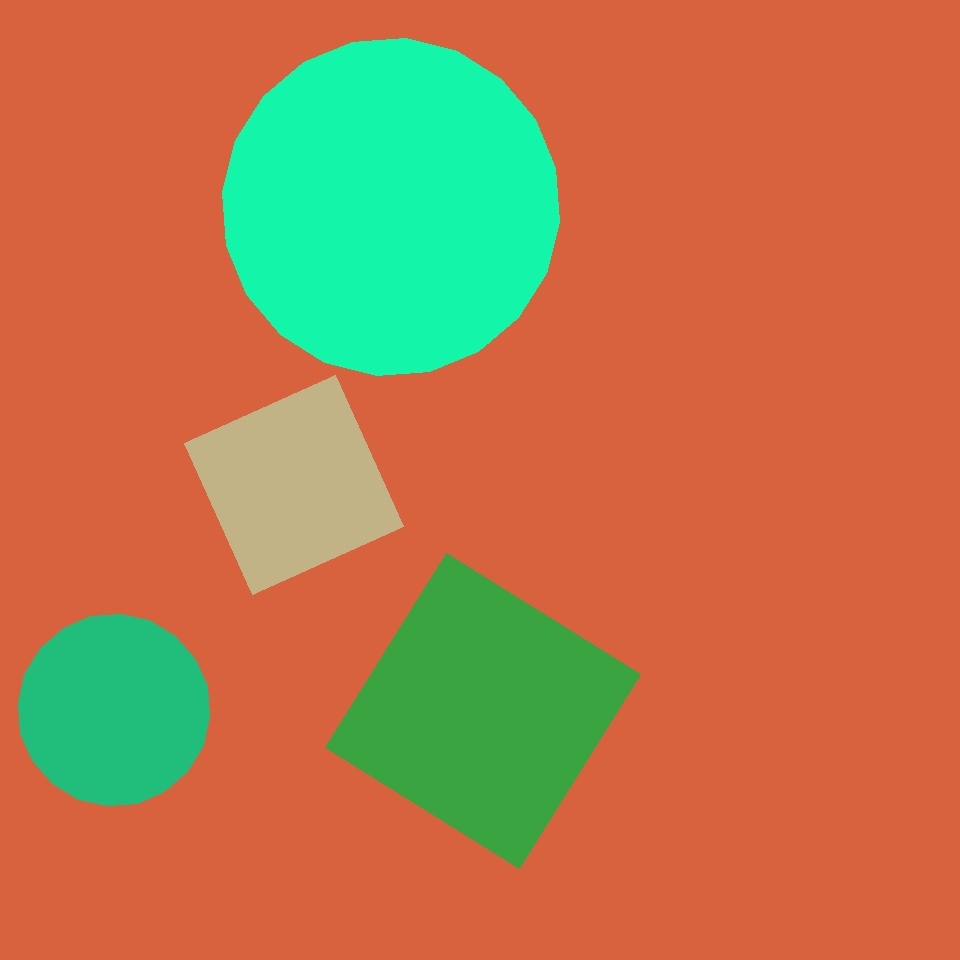circle: (766, 521, 889, 661)
square: (326, 554, 640, 868), (184, 376, 404, 594)
triangle: (222, 39, 560, 376), (130, 51, 408, 329), (18, 614, 209, 806)
